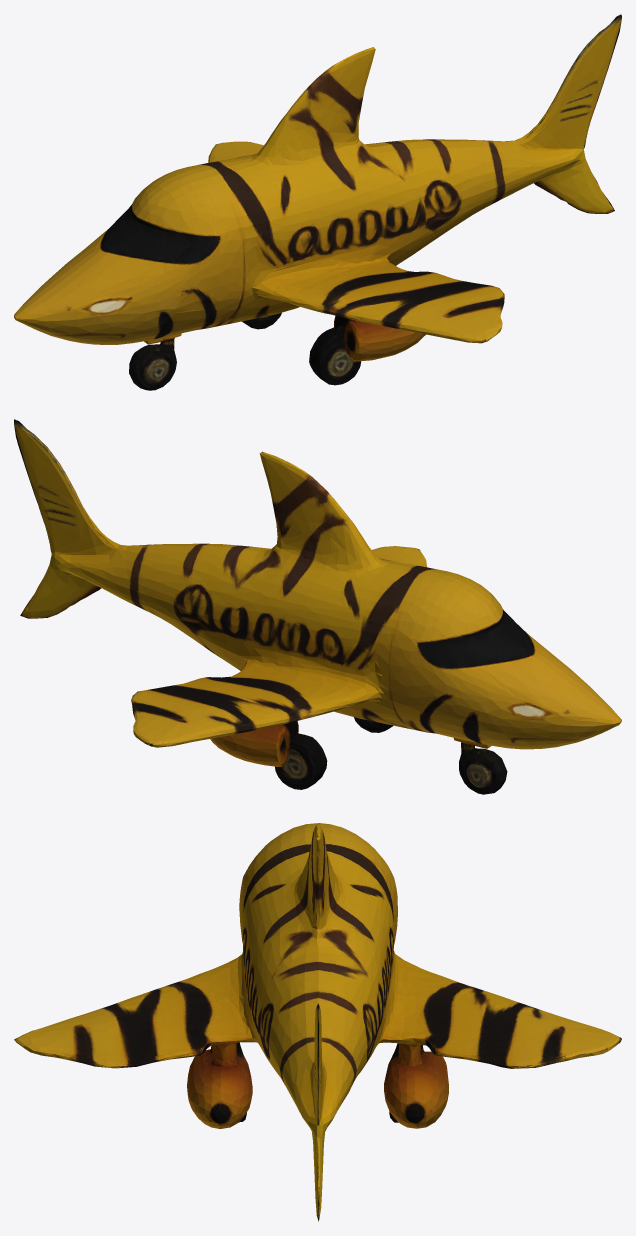
The picture shows the model from 3 angles, top to bottom: view 1: azimuth 30°, elevation 25°; view 2: azimuth 150°, elevation 25°; view 3: azimuth 270°, elevation 25°; orthographic projection. The views are drawn at different scales.
Visible parts, largest first — view 1: world; view 2: world; view 3: world.
Boxes of the visible parts, left/top/right/bottom form: world: left=14, top=14, right=621, bottom=390; world: left=14, top=419, right=621, bottom=794; world: left=14, top=823, right=621, bottom=1221.
Size of the model in its own units: 1 by 0.4542 by 0.7681.
Materials: 1 (1 with a texture image).
